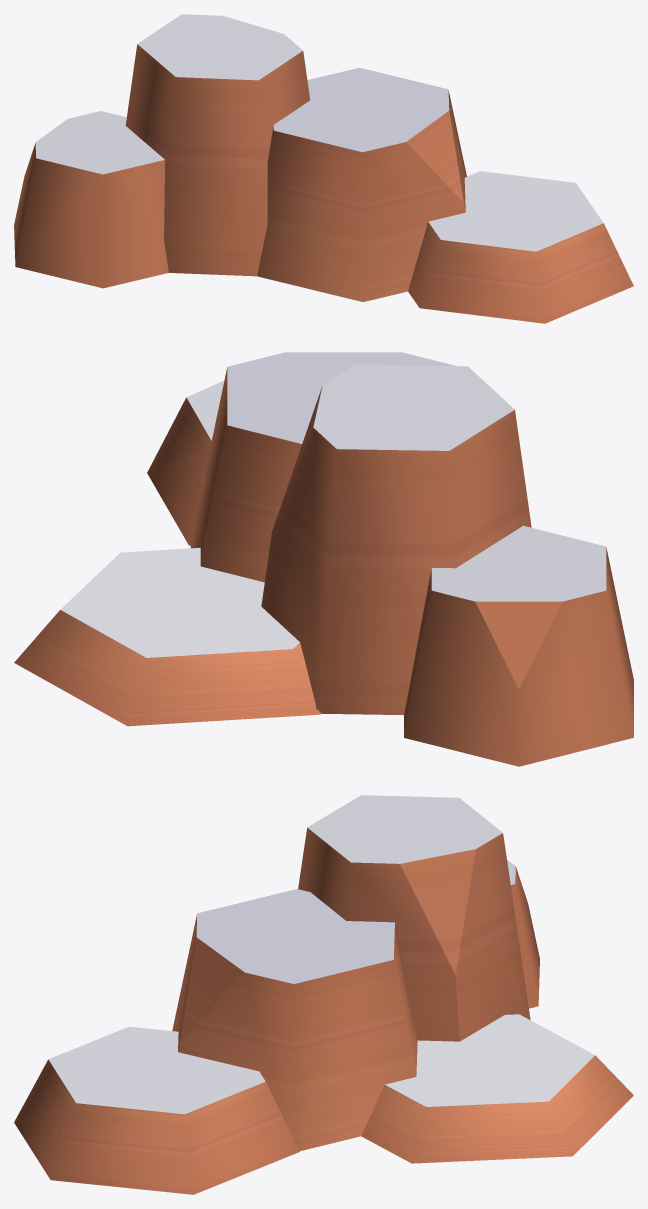
File: snow-detail-dirt.glb
3 renders of one model, top to bottom at view 1: azimuth 30°, elevation 25°; view 2: azimuth 150°, elevation 25°; view 3: azimuth 270°, elevation 25°, orthographic. The views are drawn at different scales.
Visible parts, largest first — view 1: snow-detail-dirt; view 2: snow-detail-dirt; view 3: snow-detail-dirt.
Part boxes in pixels (left/top/right/bottom): snow-detail-dirt: left=14, top=14, right=633, bottom=323; snow-detail-dirt: left=14, top=352, right=633, bottom=766; snow-detail-dirt: left=14, top=795, right=633, bottom=1194.
Size of the model in its own units: 0.7027 by 0.2653 by 0.712.
1 material, 1 textured.
